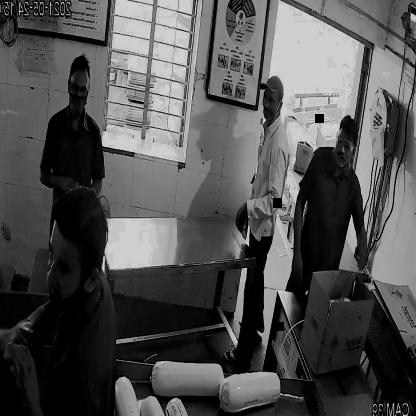goggles: (334, 133, 361, 155), (68, 80, 91, 100)
no_goggles: (259, 91, 286, 109)
